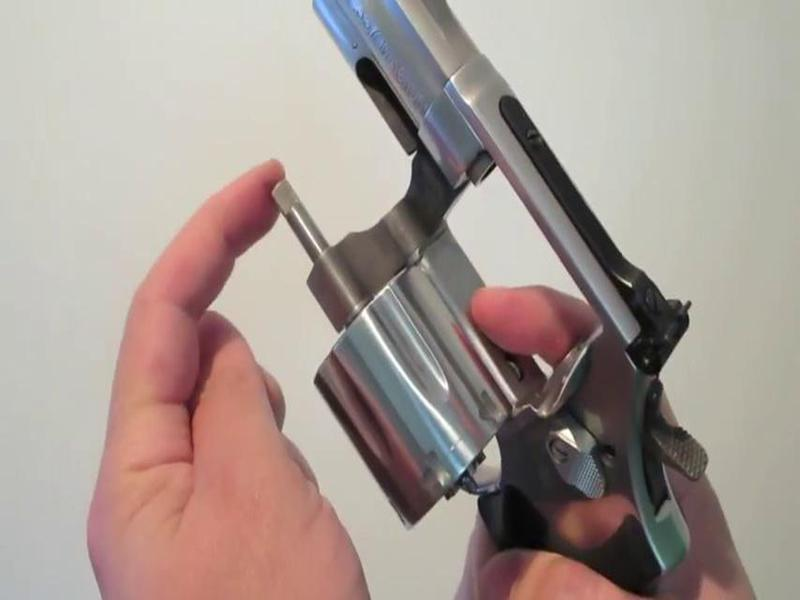Revolver: (255, 11, 738, 600)
